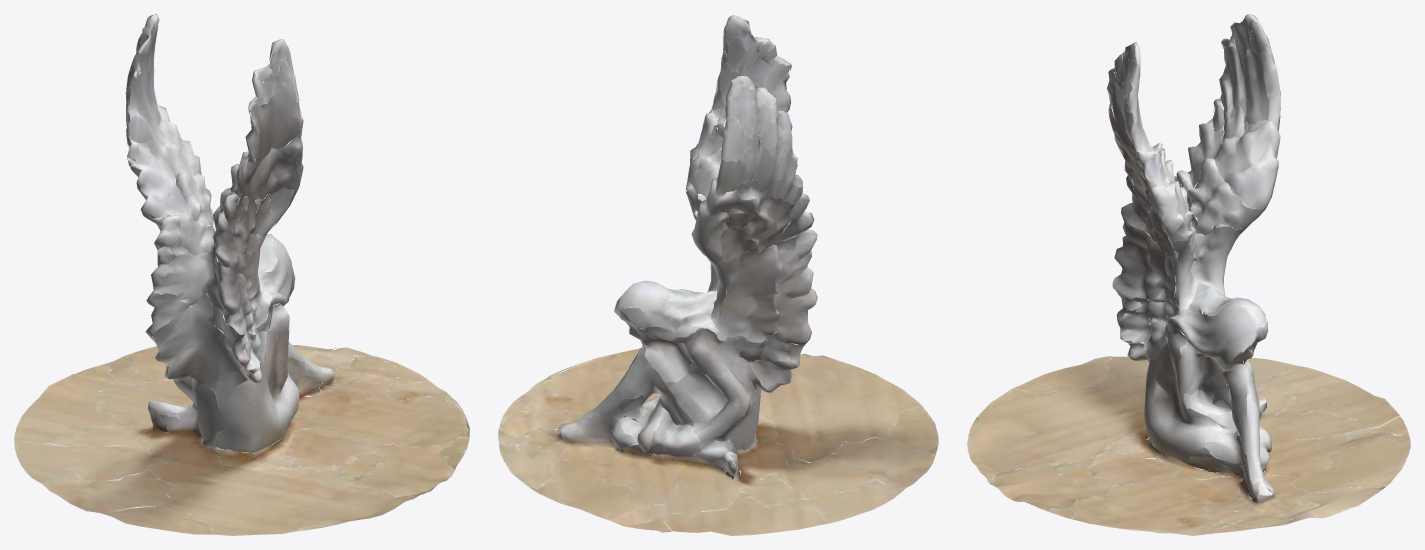
File: stone-angel.glb
The picture shows the model from 3 angles, left to right: view 1: azimuth 30°, elevation 25°; view 2: azimuth 150°, elevation 25°; view 3: azimuth 270°, elevation 25°; orthographic projection. The views are drawn at different scales.
Parts seen in each view (by area): view 1: low; view 2: low; view 3: low.
Boxes of the visible parts, x1=… form: low: x1=14, y1=14, x2=469, y2=535; low: x1=498, y1=14, x2=938, y2=535; low: x1=967, y1=14, x2=1410, y2=535.
Bounding box in the file's own units: 1.27 × 1.3 × 1.27.
Materials: 1 (1 with a texture image).
